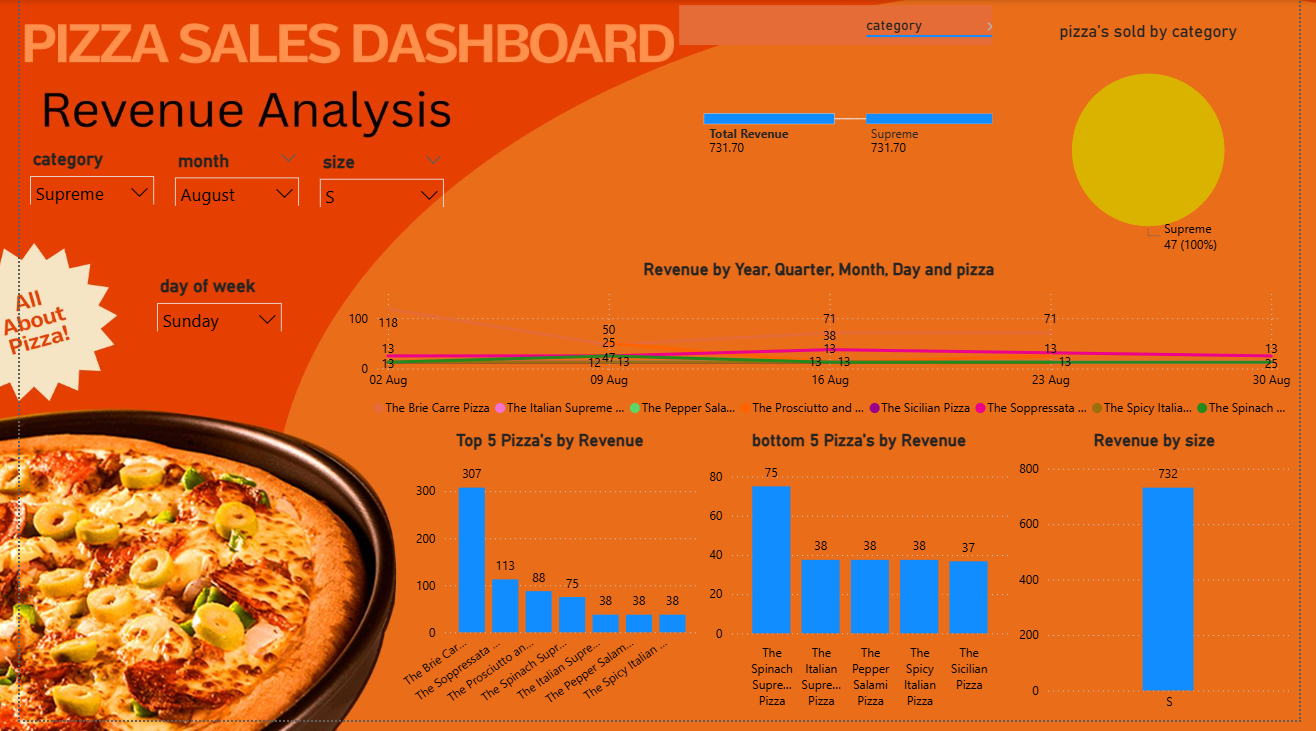

The page's visual inventory and layout, read from the dashboard file:
{"tool":"powerbi","page":{"name":"Page 3","canvas":[1280,720],"ordinal":2},"visuals":[{"type":"slicer","fields":{"Values":["pizza_types.category"]},"box":[0,144.1,144.1,61.2],"z":0},{"type":"slicer","fields":{"Values":["orders.month"]},"box":[145.5,145.5,144.1,61.2],"z":1},{"type":"slicer","fields":{"Values":["pizzas.size"]},"box":[289.6,146.8,144.1,61.2],"z":2},{"type":"slicer","fields":{"Values":["orders.day of week"]},"box":[127,270.6,144.9,60.7],"z":3},{"type":"columnChart","title":"Top 5 Pizza''s by Revenue","fields":{"Y":["pizzas.Total Revenue"],"Category":["pizza_types.name"]},"box":[375.5,430.7,309.2,285.7],"z":4},{"type":"columnChart","title":"bottom 5 Pizza''s by Revenue","fields":{"Y":["pizzas.Total Revenue"],"Category":["pizza_types.name"]},"box":[684.7,430.7,309.2,285.7],"z":5},{"type":"columnChart","title":"Revenue by size","fields":{"Y":["pizzas.Total Revenue"],"Category":["pizzas.size"]},"box":[993.9,430.1,281.6,289.9],"z":6},{"type":"lineChart","title":"Revenue by Year, Quarter, Month, Day and pizza","fields":{"Y":["pizzas.Total Revenue"],"Category":["orders.date.Variation.Date Hierarchy.Year","orders.date.Variation.Date Hierarchy.Quarter","orders.date.Variation.Date Hierarchy.Month","orders.date.Variation.Date Hierarchy.Day"],"Series":["pizza_types.name"]},"box":[323,259.5,952.5,167],"z":7},{"type":"pieChart","title":"pizza''s sold by category","fields":{"Category":["pizza_types.category"],"Y":["orders.total_pizzas_sold"]},"box":[977.3,20.7,302.3,238.8],"z":8},{"type":"decompositionTreeVisual","fields":{"Analyze":["pizzas.Total Revenue"],"ExplainBy":["pizza_types.category"]},"box":[654.3,0,323,237.4],"z":9}]}

Visuals, with their boxes in screenshot pixels (x1, y1, x2, y2), scaled from the page's 1280x720 canvas onto the 1316x731 screenshot:
slicer - pizza_types.category: <box>0,146,148,208</box>
slicer - orders.month: <box>150,148,298,210</box>
slicer - pizzas.size: <box>298,149,446,211</box>
slicer - orders.day of week: <box>131,275,280,336</box>
"Top 5 Pizza''s by Revenue" columnChart: <box>386,437,704,727</box>
"bottom 5 Pizza''s by Revenue" columnChart: <box>704,437,1022,727</box>
"Revenue by size" columnChart: <box>1022,437,1311,730</box>
"Revenue by Year, Quarter, Month, Day and pizza" lineChart: <box>332,263,1311,433</box>
"pizza''s sold by category" pieChart: <box>1005,21,1315,263</box>
decompositionTreeVisual - pizzas.Total Revenue x pizza_types.category: <box>673,0,1005,241</box>
